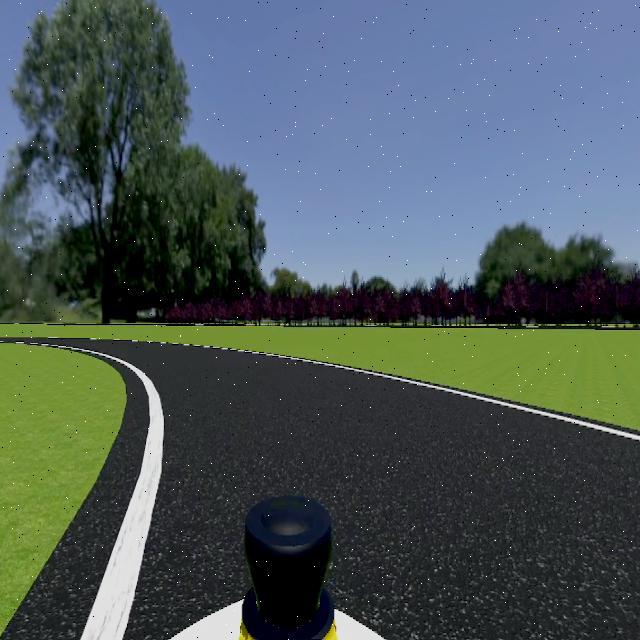road: (76, 341, 640, 640)
solid_line: (218, 348, 640, 444), (80, 351, 164, 640)
